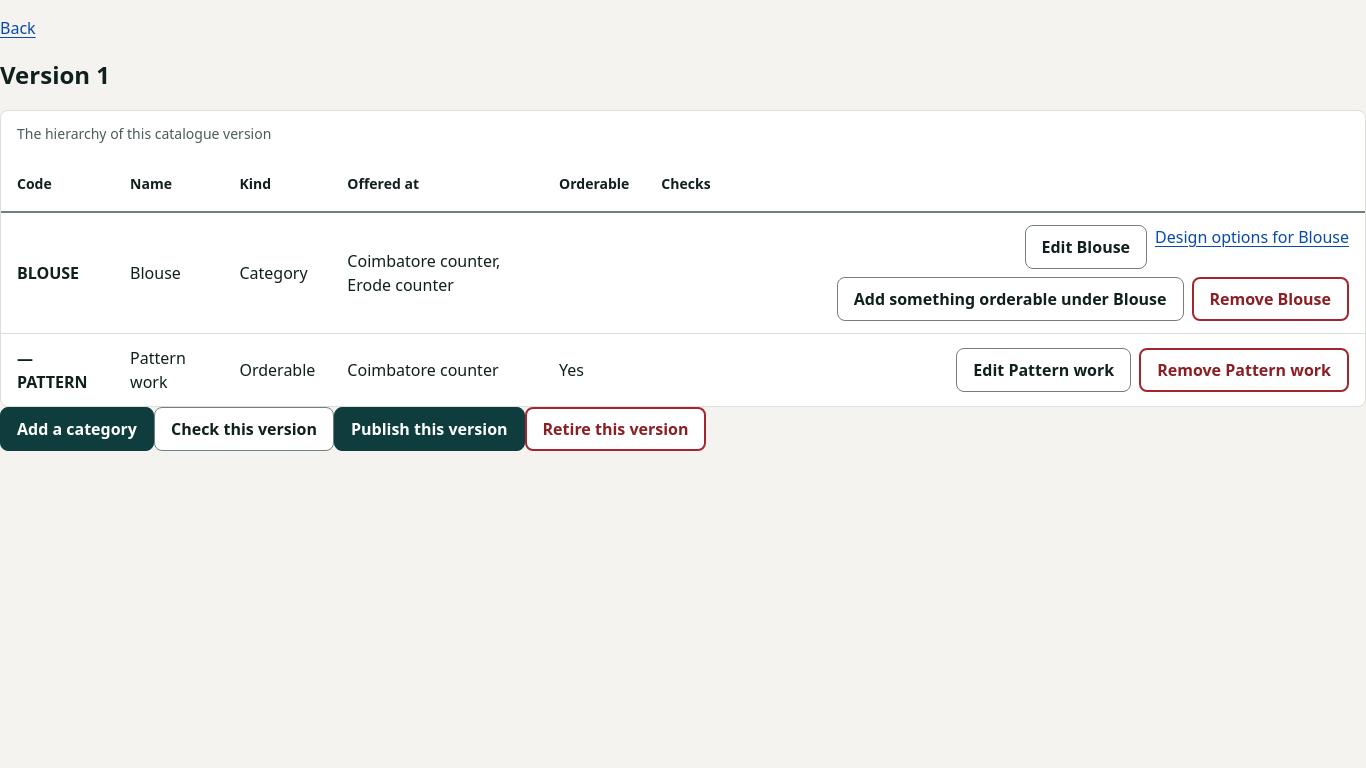
Test case: says a report is stale once the draft has been written since it ran
This screenshot has width=1366, height=768.
Expected: the table is shown, [1,111,1365,406]
Click the button "Check this version" at (244, 429), box [154,407,334,451]
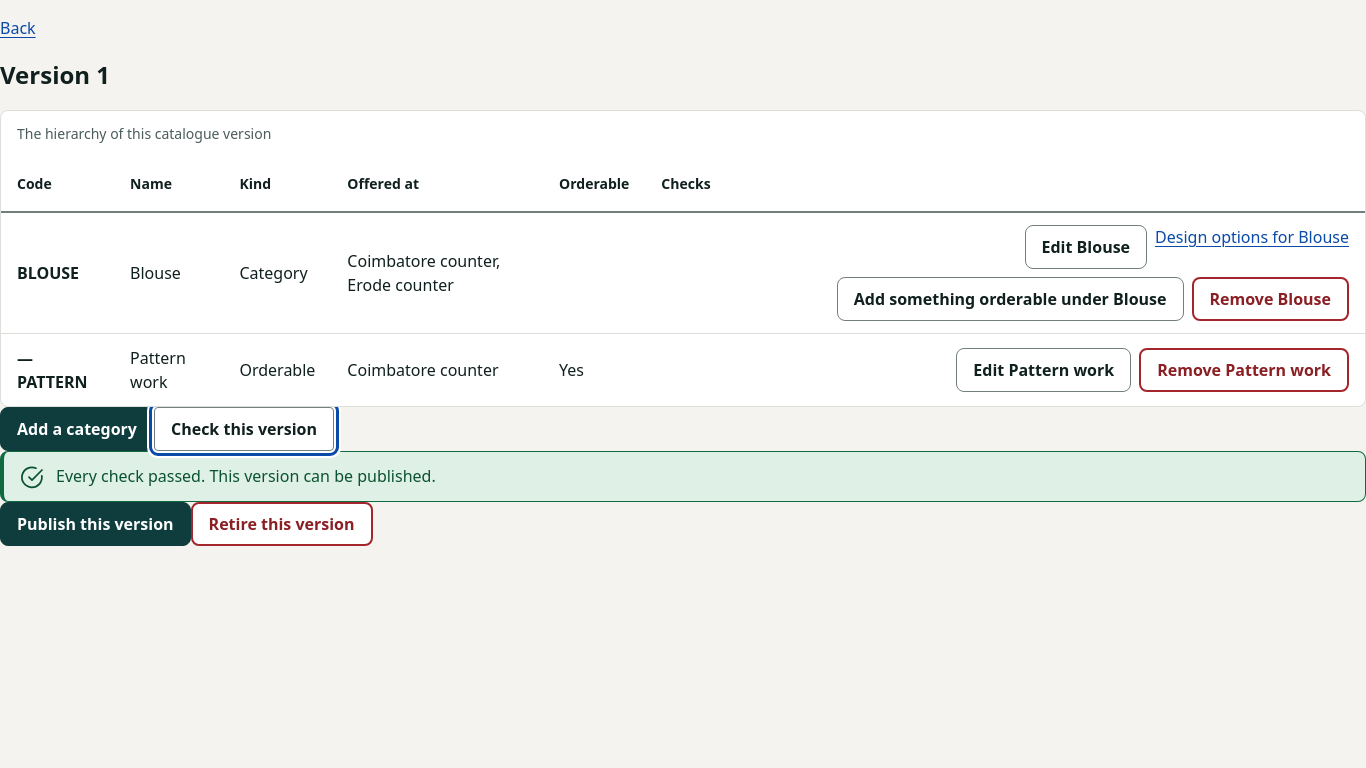
Result: the text "Every check passed. This version can be published." is shown at [56,465,436,487]
Click the button "Remove Blouse" at (1270, 299), box [1192,277,1349,321]
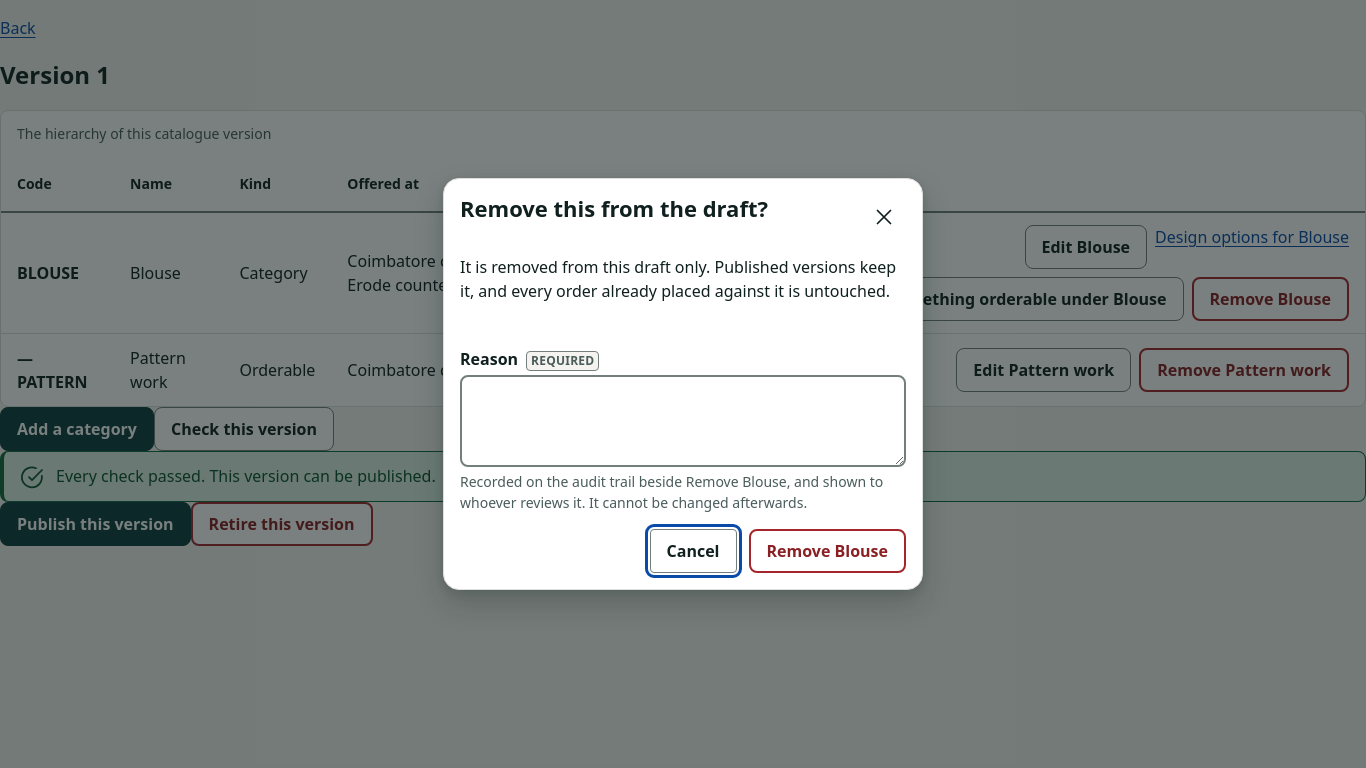
Type "Replaced by two narrower categories." into the text box at (683, 421), box [460,375,906,467]
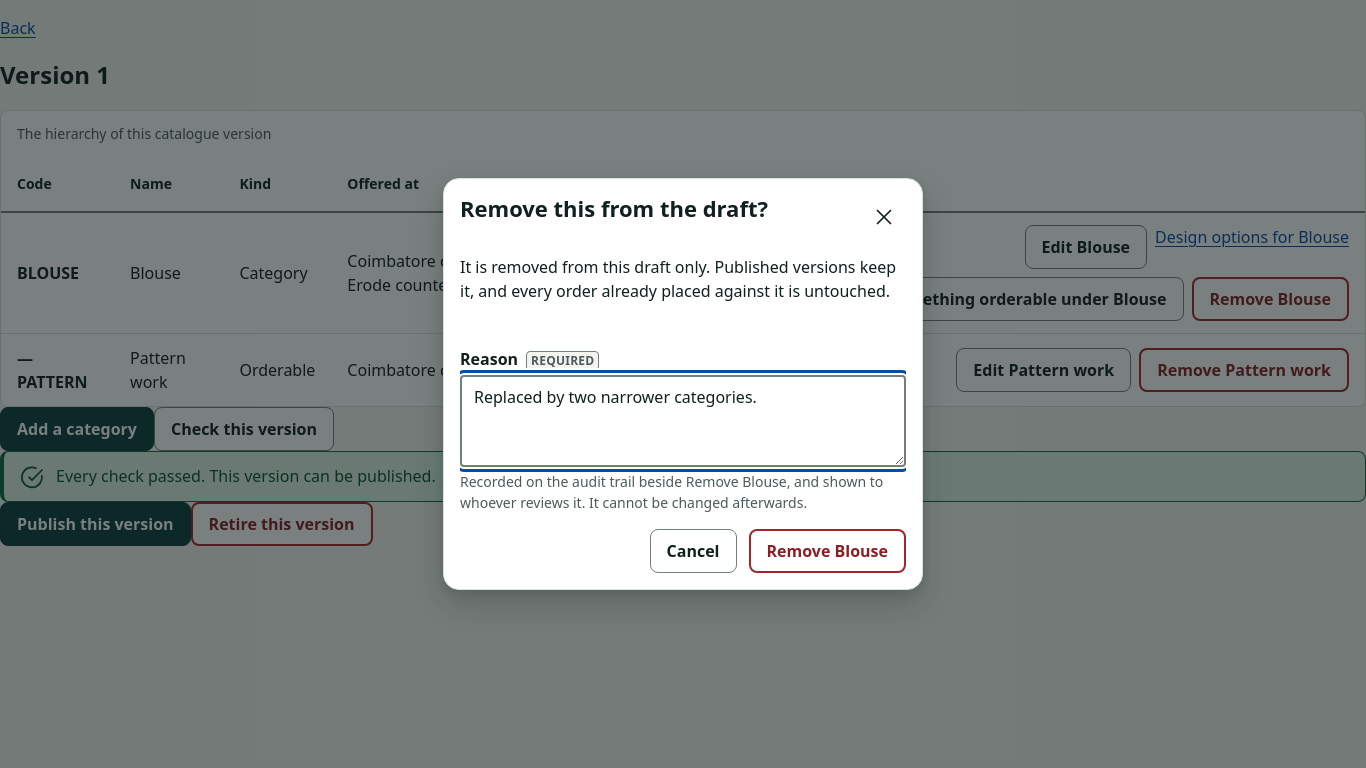
Click the button "Remove Blouse" at (827, 551), box [748,529,906,573]
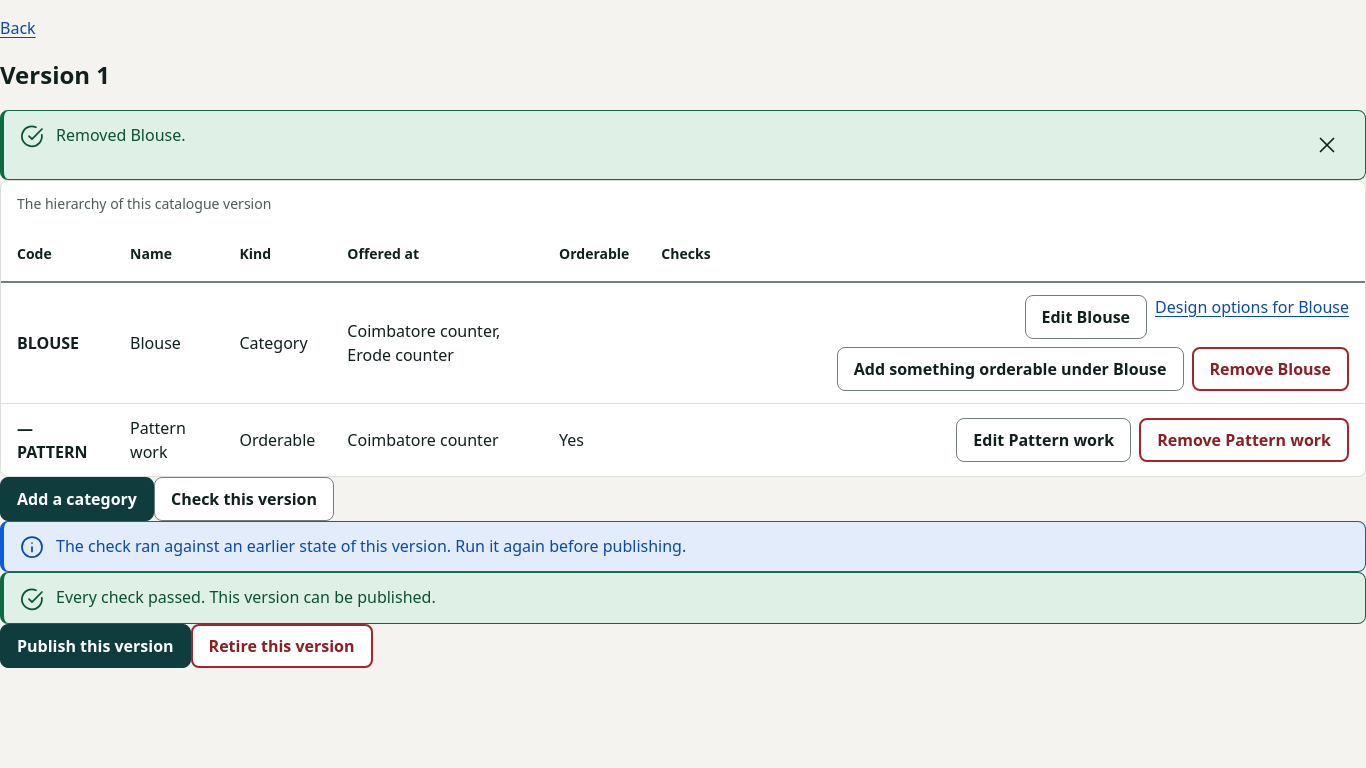
Result: the text "ran against an earlier state" is shown at [56,535,686,557]
